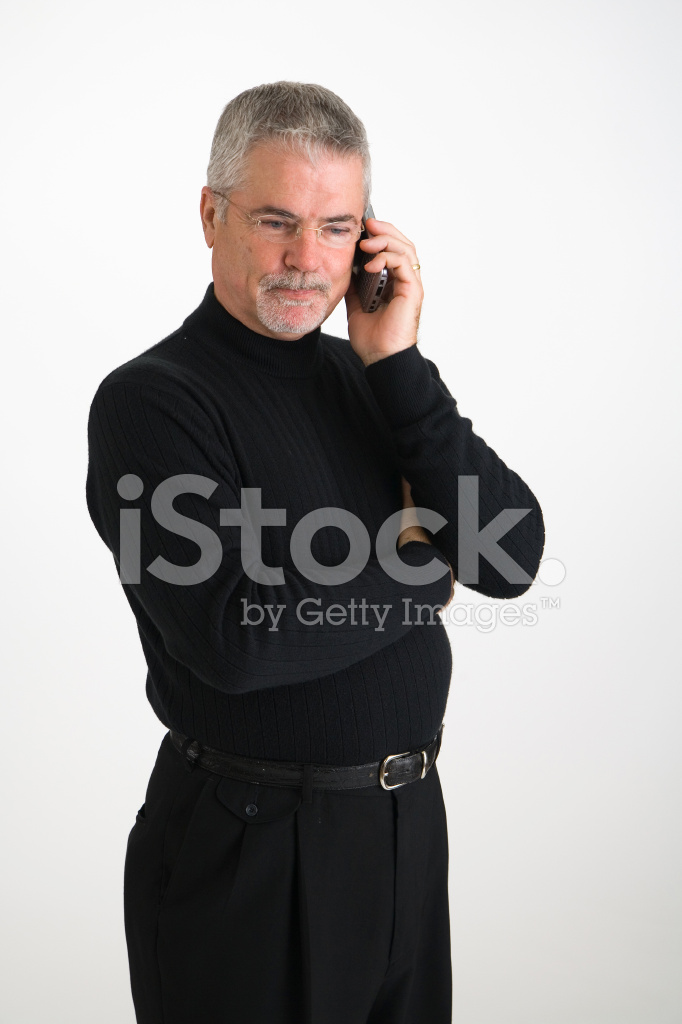phone: (350, 204, 426, 332)
talk: (223, 170, 435, 376)
